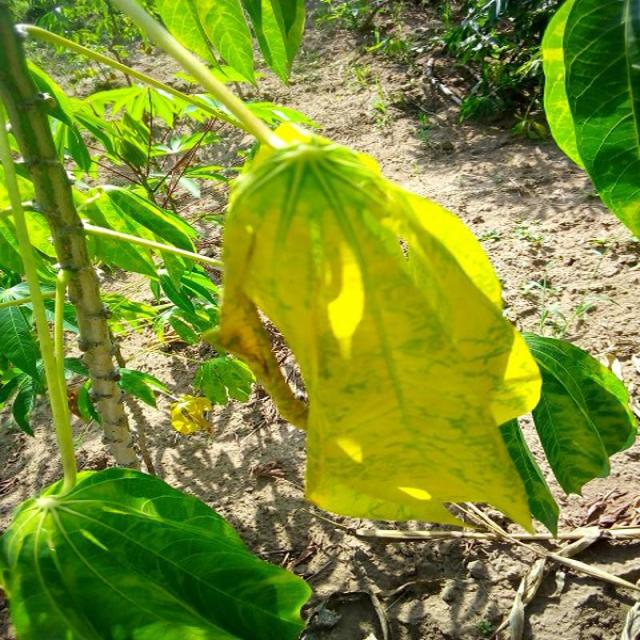cassava leaf: (215, 119, 560, 536), (0, 465, 314, 638), (542, 0, 640, 241)
